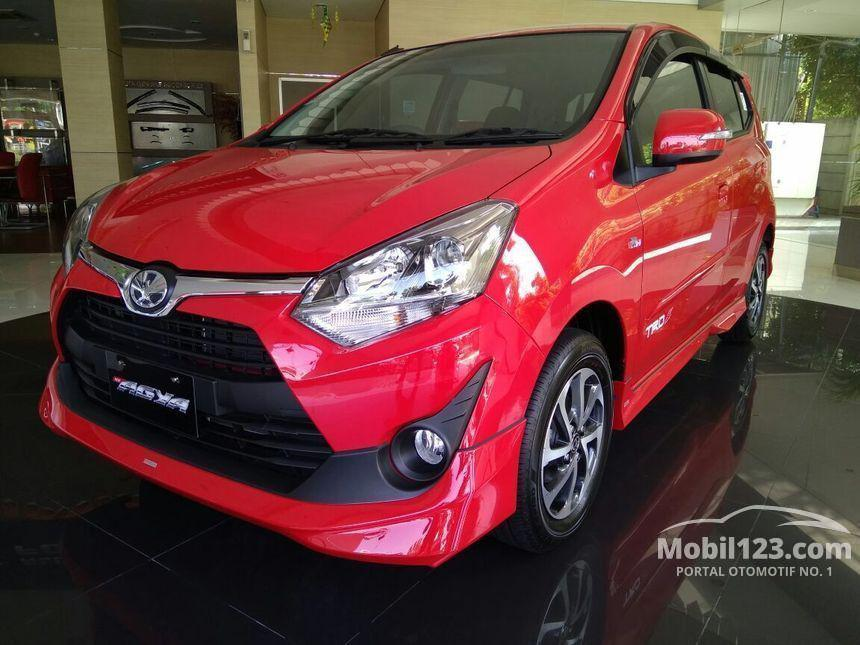mobil: (24, 9, 791, 583)
